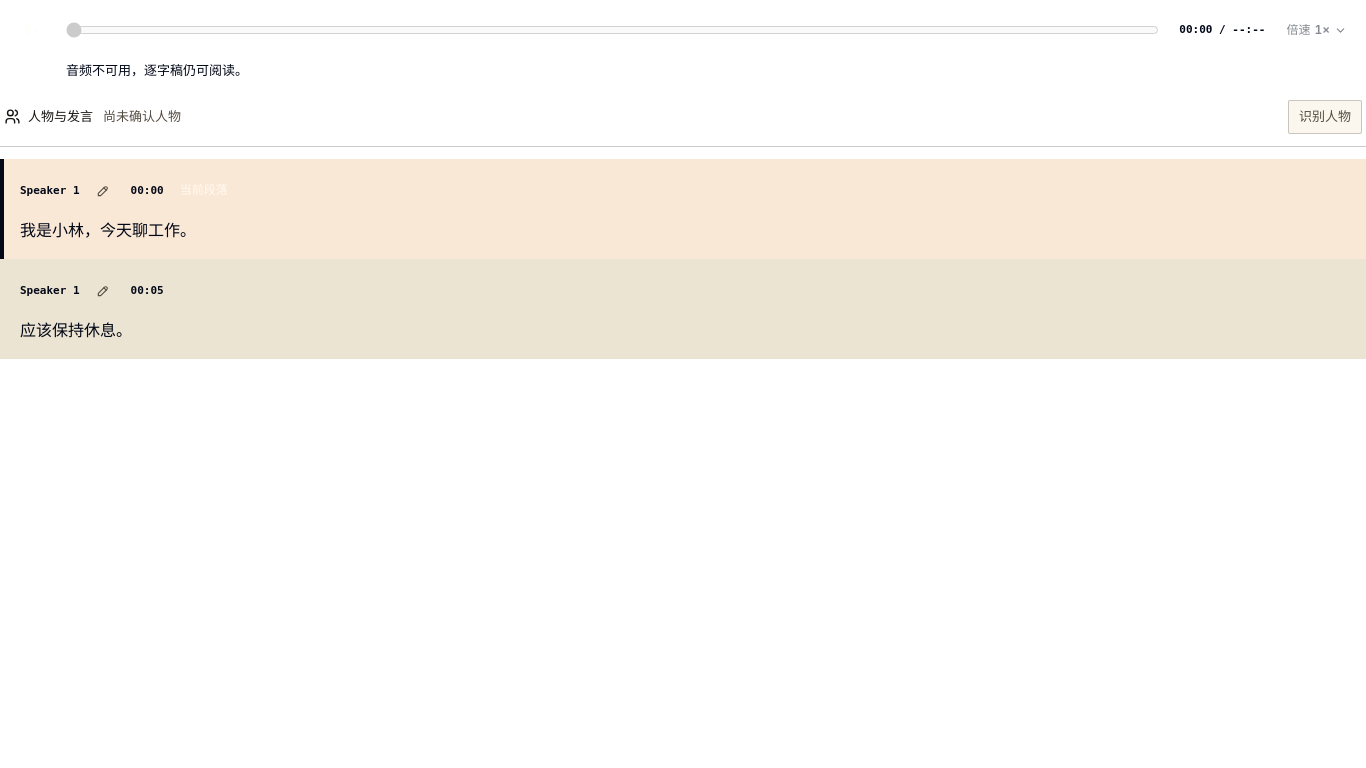
Test case: keeps a running request alive when closing and reopening the modal
Click the button "识别人物" at coordinates (1325, 117), box x1=1288 y1=100 x2=1362 y2=134
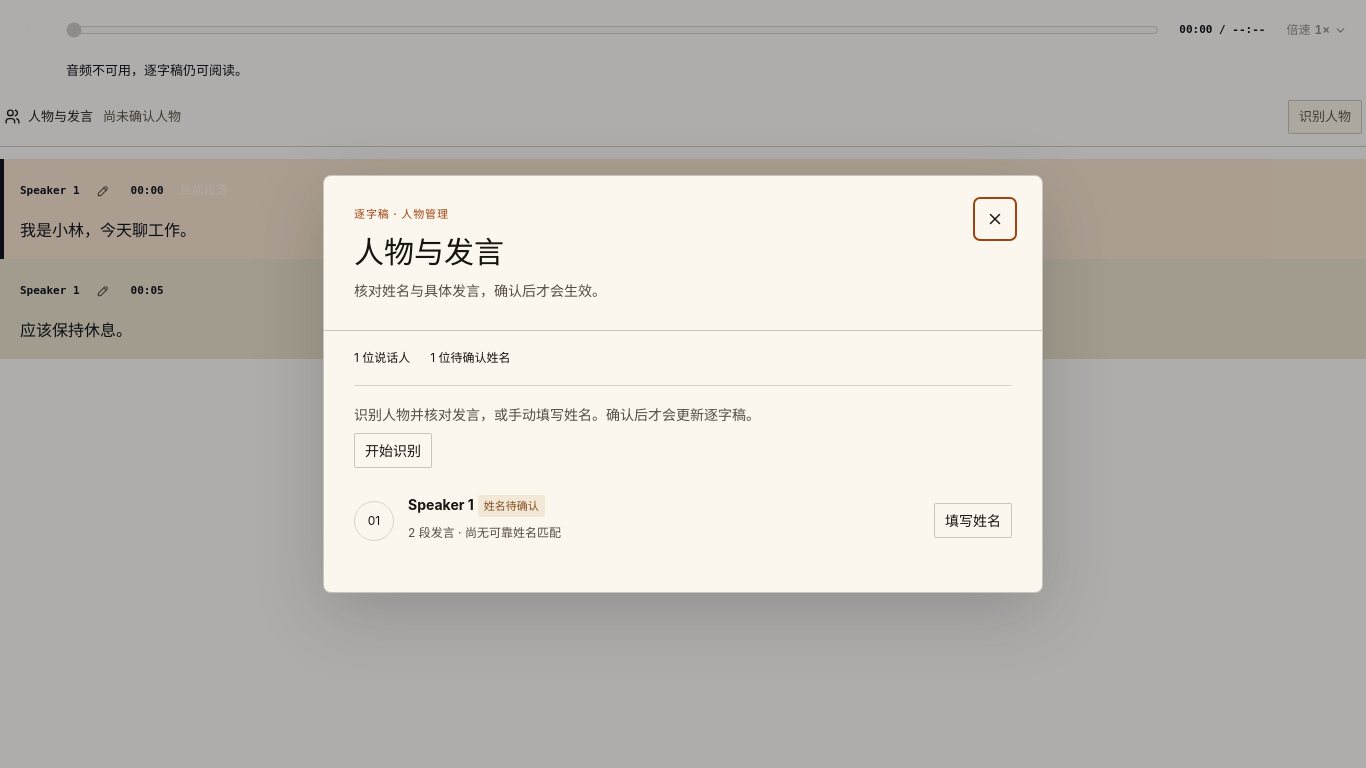
Click the button "开始识别" at coordinates (393, 450), box x1=354 y1=432 x2=432 y2=468
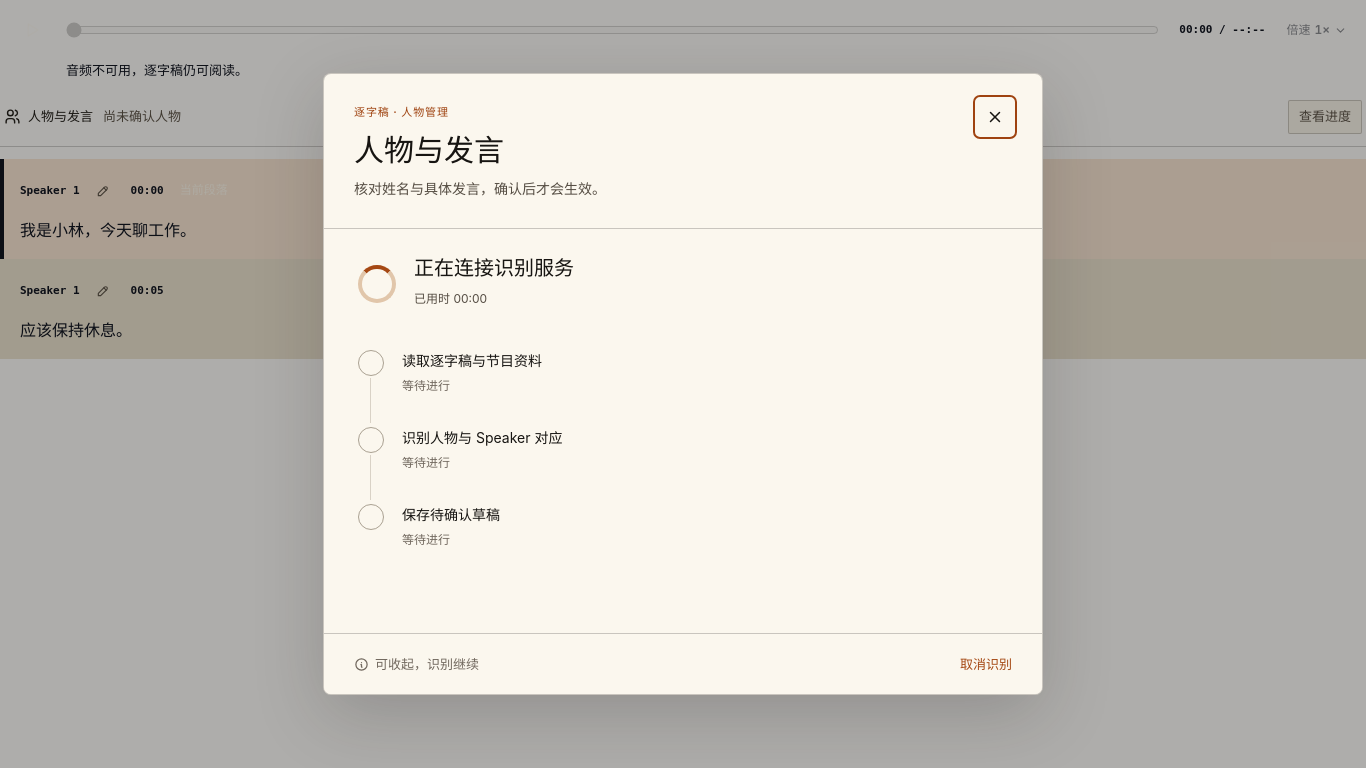
Press Escape in the dialog named "人物与发言核对", box x1=323 y1=73 x2=1043 y2=695
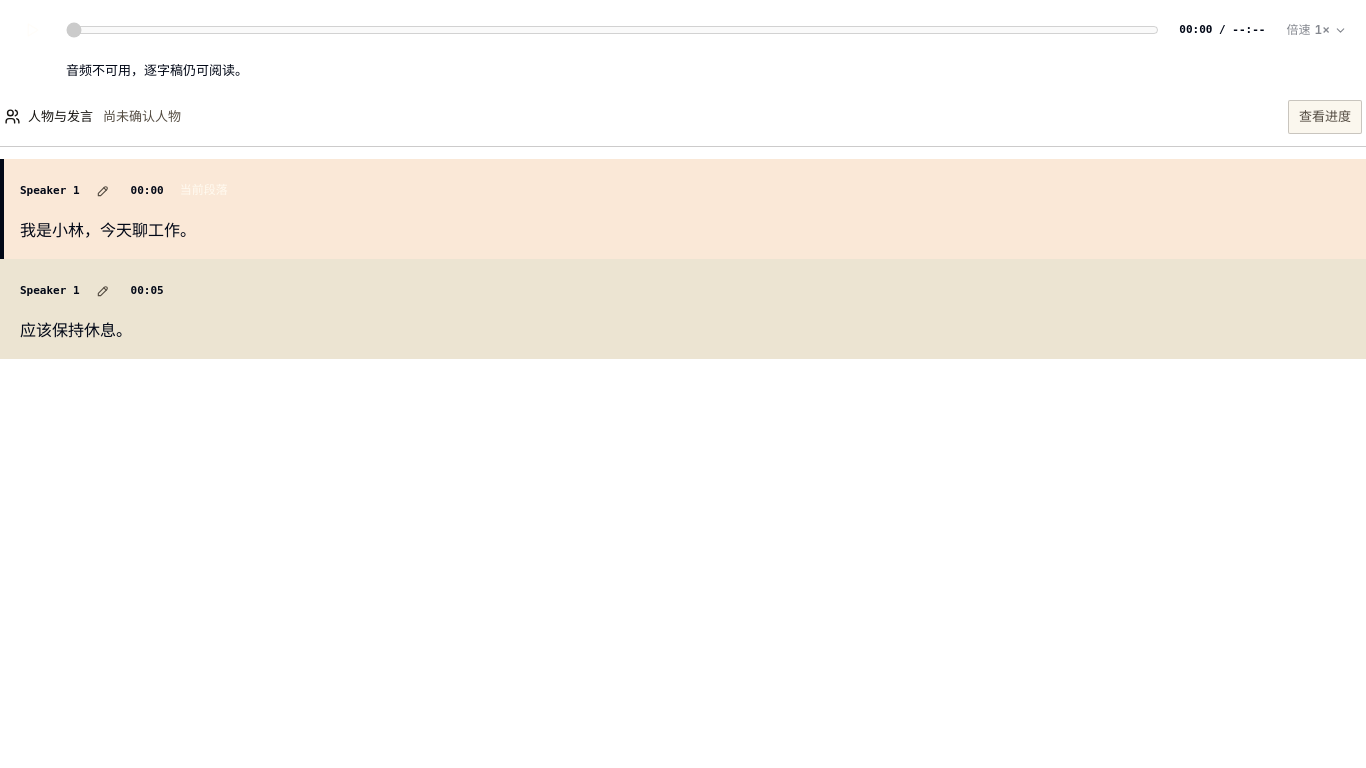
Click the button "查看进度" at coordinates (1325, 117), box x1=1288 y1=100 x2=1362 y2=134
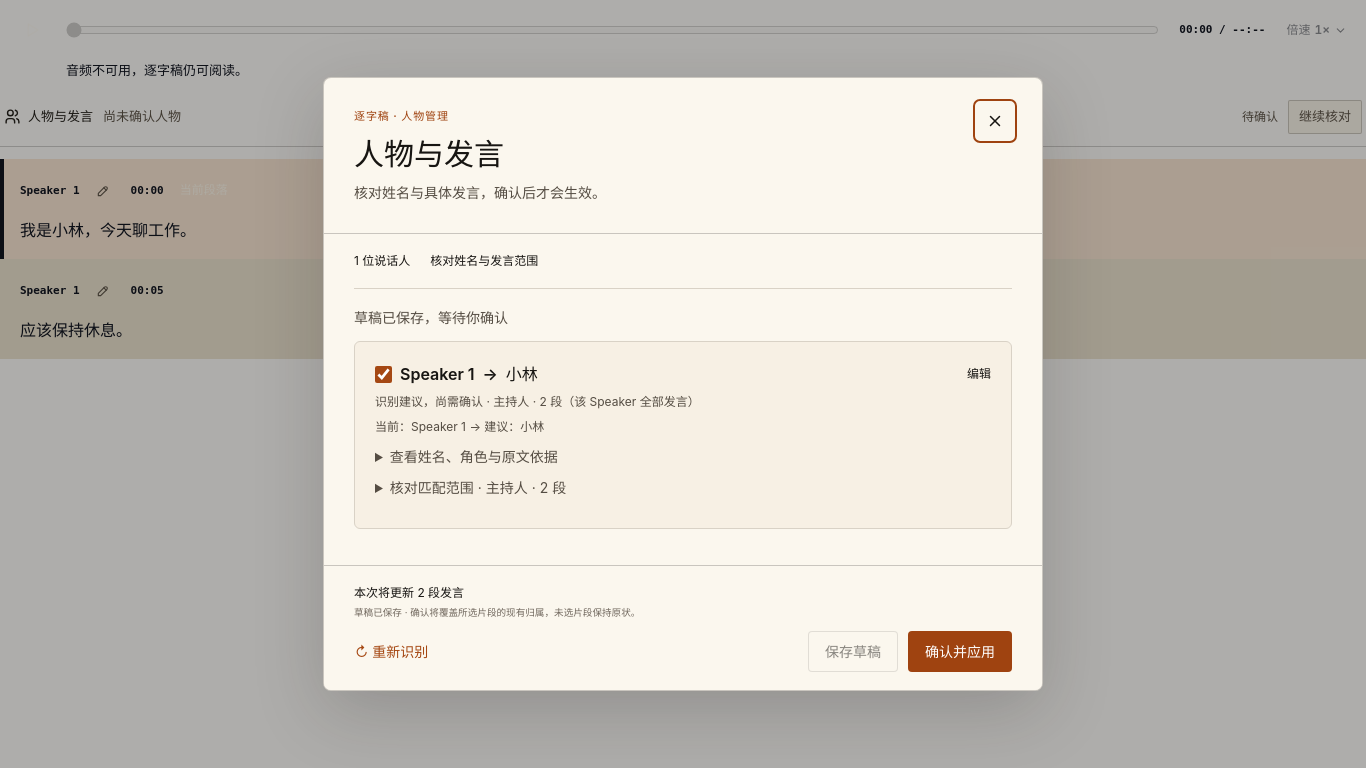
Now the button with aria-label "编辑匹配 小林" is shown, box x1=967 y1=362 x2=991 y2=386
